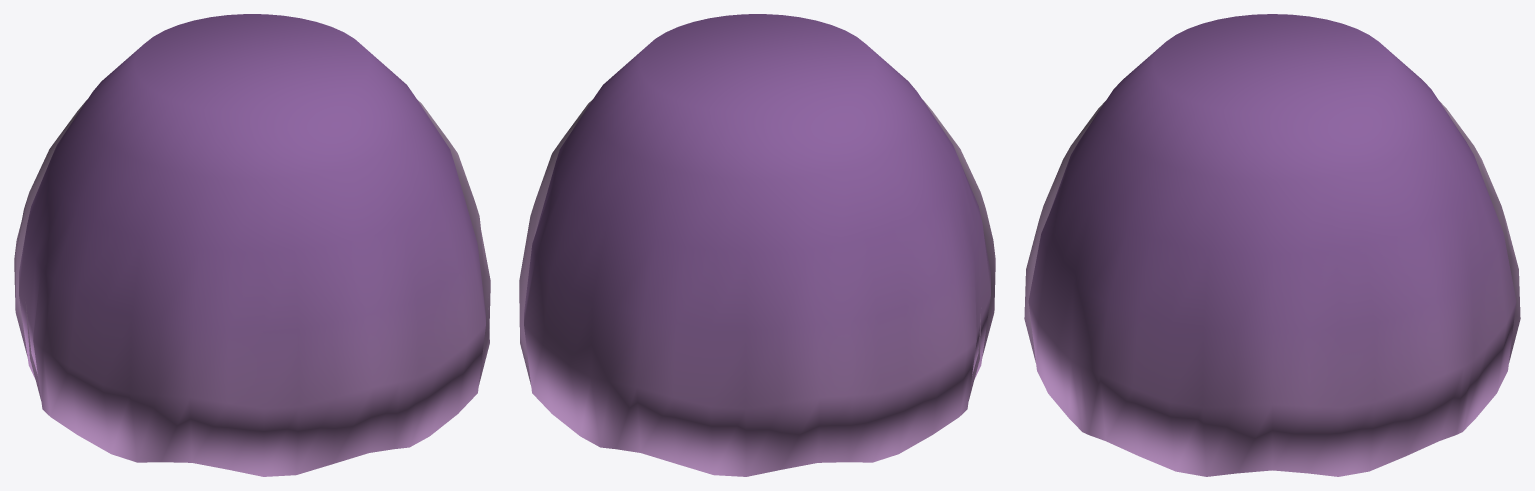
File: creature-jelly-bell.glb
3 renders of one model, left to right at view 1: azimuth 30°, elevation 25°; view 2: azimuth 150°, elevation 25°; view 3: azimuth 270°, elevation 25°, orthographic.
Visible parts, largest first — view 1: creature-jelly-bell; view 2: creature-jelly-bell; view 3: creature-jelly-bell.
Boxes of the visible parts, x1,y1,x2,y2 form: creature-jelly-bell: (14, 14, 490, 476); creature-jelly-bell: (519, 14, 995, 476); creature-jelly-bell: (1024, 14, 1520, 476).
Size of the model in its own units: 0.6405 by 0.4854 by 0.6405.
